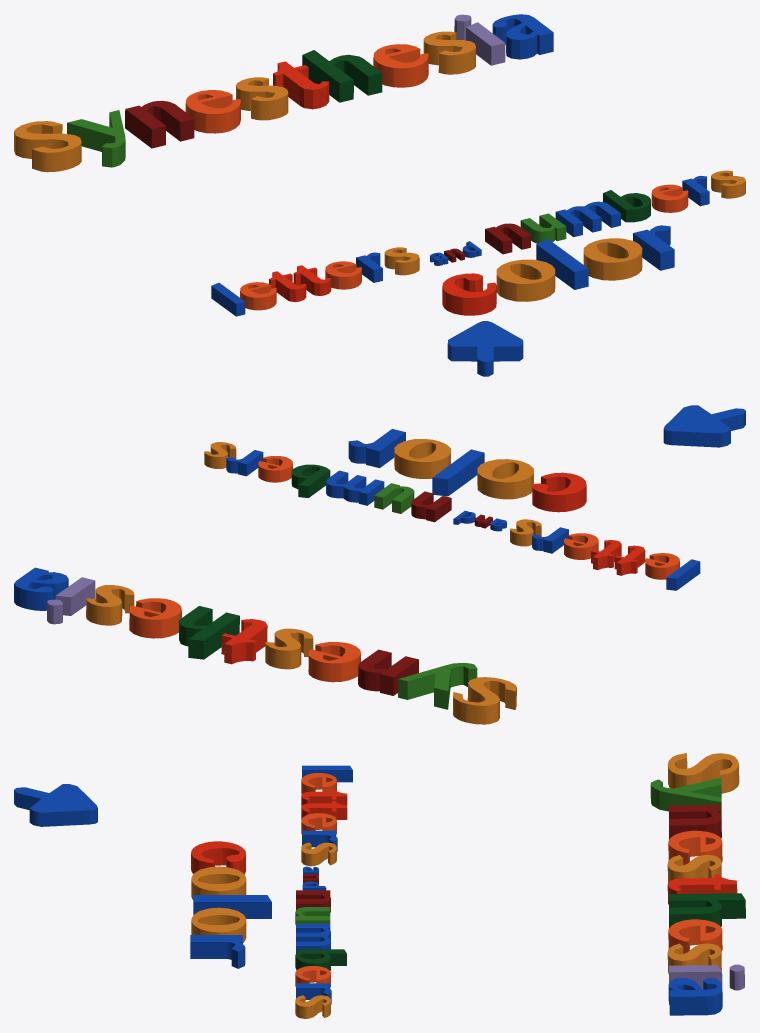
File: postermodel_vectortri.obj
3 views of the same model, one above another, from view 1: azimuth 30°, elevation 25°; view 2: azimuth 150°, elevation 25°; view 3: azimuth 270°, elevation 25° (orthographic). The views are drawn at different scales.
Parts seen in each view (by area): view 1: planarTrimmedSurface12, pCube1, planarTrimmedSurface18, planarTrimmedSurface14, planarTrimmedSurface41, planarTrimmedSurface43, planarTrimmedSurface22, planarTrimmedSurface19, planarTrimmedSurface15, planarTrimmedSurface40, planarTrimmedSurface13, planarTrimmedSurface20 (+19 smaller); view 2: pCube1, planarTrimmedSurface12, planarTrimmedSurface18, planarTrimmedSurface13, planarTrimmedSurface41, planarTrimmedSurface43, planarTrimmedSurface15, planarTrimmedSurface40, planarTrimmedSurface19, planarTrimmedSurface14, planarTrimmedSurface22, planarTrimmedSurface16 (+19 smaller); view 3: pCube1, planarTrimmedSurface18, planarTrimmedSurface12, planarTrimmedSurface22, planarTrimmedSurface13, planarTrimmedSurface14, planarTrimmedSurface41, planarTrimmedSurface44, planarTrimmedSurface42, planarTrimmedSurface40, planarTrimmedSurface43, planarTrimmedSurface19 (+19 smaller).
Boxes of the visible parts, x1=… form: planarTrimmedSurface12: x1=14, y1=121, x2=81, y2=172; pCube1: x1=447, y1=321, x2=523, y2=376; planarTrimmedSurface18: x1=302, y1=50, x2=382, y2=102; planarTrimmedSurface14: x1=125, y1=100, x2=194, y2=148; planarTrimmedSurface41: x1=496, y1=259, x2=555, y2=301; planarTrimmedSurface43: x1=583, y1=238, x2=642, y2=280; planarTrimmedSurface22: x1=492, y1=14, x2=553, y2=59; planarTrimmedSurface19: x1=373, y1=44, x2=428, y2=87; planarTrimmedSurface15: x1=185, y1=90, x2=240, y2=133; planarTrimmedSurface40: x1=442, y1=273, x2=496, y2=315; planarTrimmedSurface13: x1=67, y1=110, x2=125, y2=167; planarTrimmedSurface20: x1=423, y1=31, x2=476, y2=74; pCube1: x1=663, y1=405, x2=745, y2=447; planarTrimmedSurface12: x1=453, y1=677, x2=516, y2=724; planarTrimmedSurface18: x1=179, y1=606, x2=239, y2=659; planarTrimmedSurface13: x1=398, y1=663, x2=477, y2=709; planarTrimmedSurface41: x1=477, y1=459, x2=533, y2=499; planarTrimmedSurface43: x1=394, y1=439, x2=450, y2=478; planarTrimmedSurface15: x1=308, y1=642, x2=360, y2=682; planarTrimmedSurface40: x1=532, y1=472, x2=586, y2=512; planarTrimmedSurface19: x1=129, y1=598, x2=181, y2=638; planarTrimmedSurface14: x1=358, y1=649, x2=418, y2=695; planarTrimmedSurface22: x1=14, y1=567, x2=68, y2=610; planarTrimmedSurface16: x1=265, y1=628, x2=313, y2=669; pCube1: x1=14, y1=784, x2=97, y2=826; planarTrimmedSurface18: x1=669, y1=893, x2=745, y2=928; planarTrimmedSurface12: x1=667, y1=753, x2=739, y2=793; planarTrimmedSurface22: x1=668, y1=978, x2=722, y2=1015; planarTrimmedSurface13: x1=650, y1=777, x2=721, y2=817; planarTrimmedSurface14: x1=669, y1=804, x2=721, y2=839; planarTrimmedSurface41: x1=191, y1=866, x2=246, y2=899; planarTrimmedSurface44: x1=190, y1=935, x2=245, y2=968; planarTrimmedSurface42: x1=193, y1=895, x2=271, y2=918; planarTrimmedSurface40: x1=191, y1=841, x2=245, y2=874; planarTrimmedSurface43: x1=191, y1=907, x2=246, y2=942; planarTrimmedSurface19: x1=668, y1=919, x2=722, y2=953.
Bounding box in the file's own units: 1.09 × 0.0816 × 1.38.
